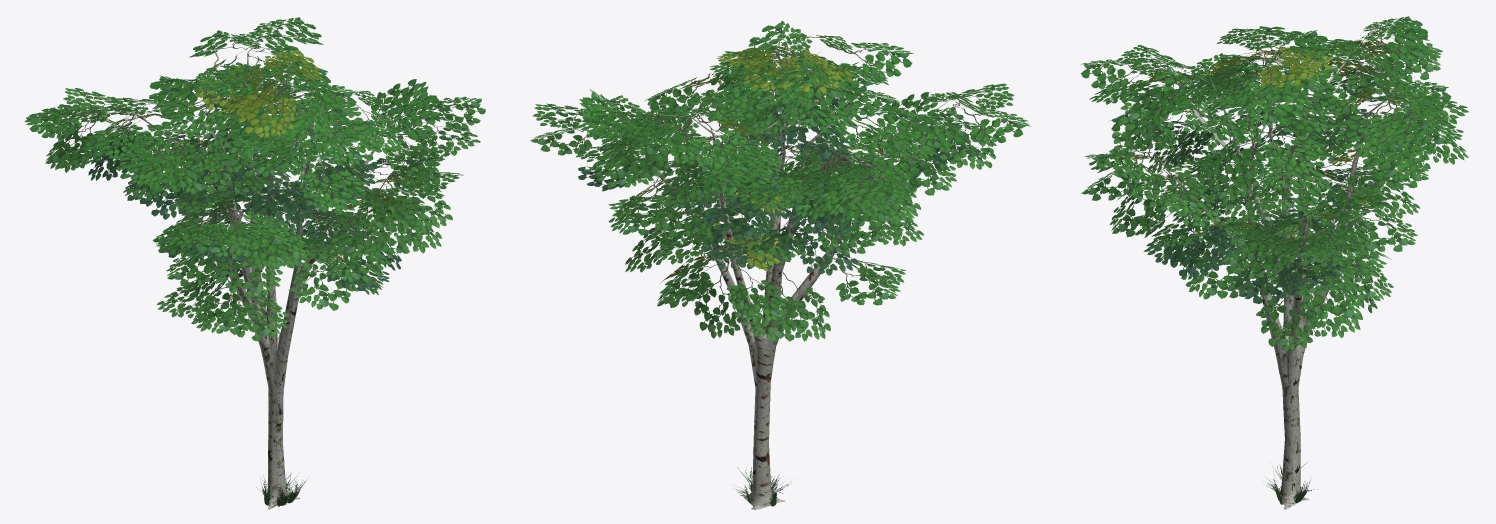
File: tree.gltf
3 renders of one model, left to right at view 1: azimuth 30°, elevation 25°; view 2: azimuth 150°, elevation 25°; view 3: azimuth 270°, elevation 25°, orthographic. The views are drawn at different scales.
Parts seen in each view (by area): view 1: Tr-户外植物5A_01; view 2: Tr-户外植物5A_01; view 3: Tr-户外植物5A_01.
Boxes of the visible parts, box(x1,y1,x2,y2) form: Tr-户外植物5A_01: box(24, 17, 485, 509); Tr-户外植物5A_01: box(530, 20, 1031, 509); Tr-户外植物5A_01: box(1080, 16, 1468, 509).
Bounding box in the file's own units: 7.34 × 7.36 × 6.14.
Materials: 3 (3 with a texture image).
